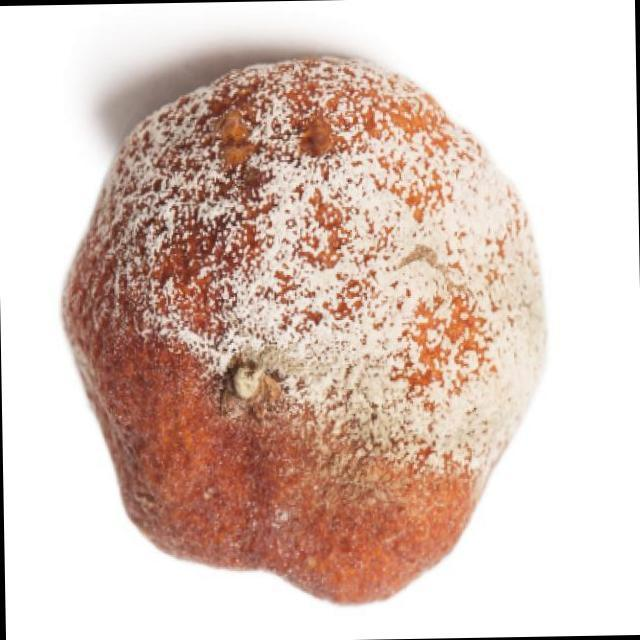rotten orange: (59, 53, 548, 605)
